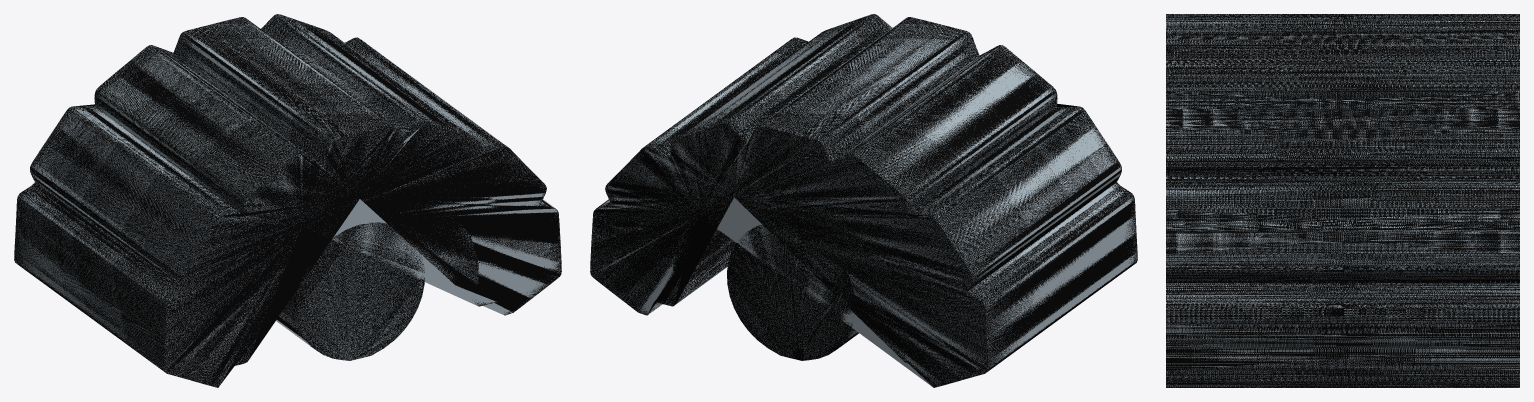
The model's file is kazıklık.fbx.
3 renders of one model, left to right at view 1: azimuth 30°, elevation 25°; view 2: azimuth 150°, elevation 25°; view 3: azimuth 270°, elevation 25°, orthographic. The views are drawn at different scales.
Parts seen in each view (by area): view 1: Group1; view 2: Group1; view 3: Group1.
Boxes of the visible parts, x1,y1,x2,y2 form: Group1: (14,14,561,387); Group1: (590,14,1137,387); Group1: (1166,14,1519,387).
Bounding box in the file's own units: 3078 × 1660 × 2000.
